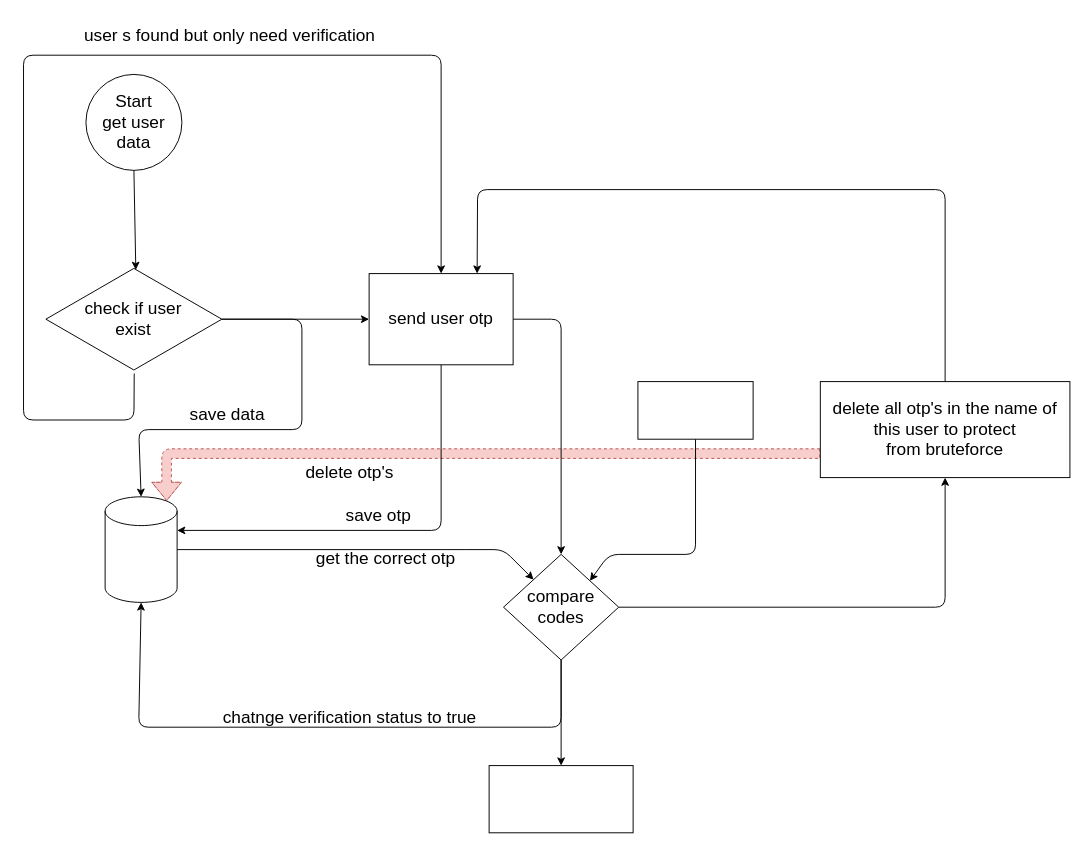
Image size: 1087x850. Some labels were removed from this diagram. The shapes that lost their labels are listed below. From the top down, each one's centre as x and y in pixels, then its label:
(x=695, y=410): user input his otp
(x=560, y=799): continue other functions
